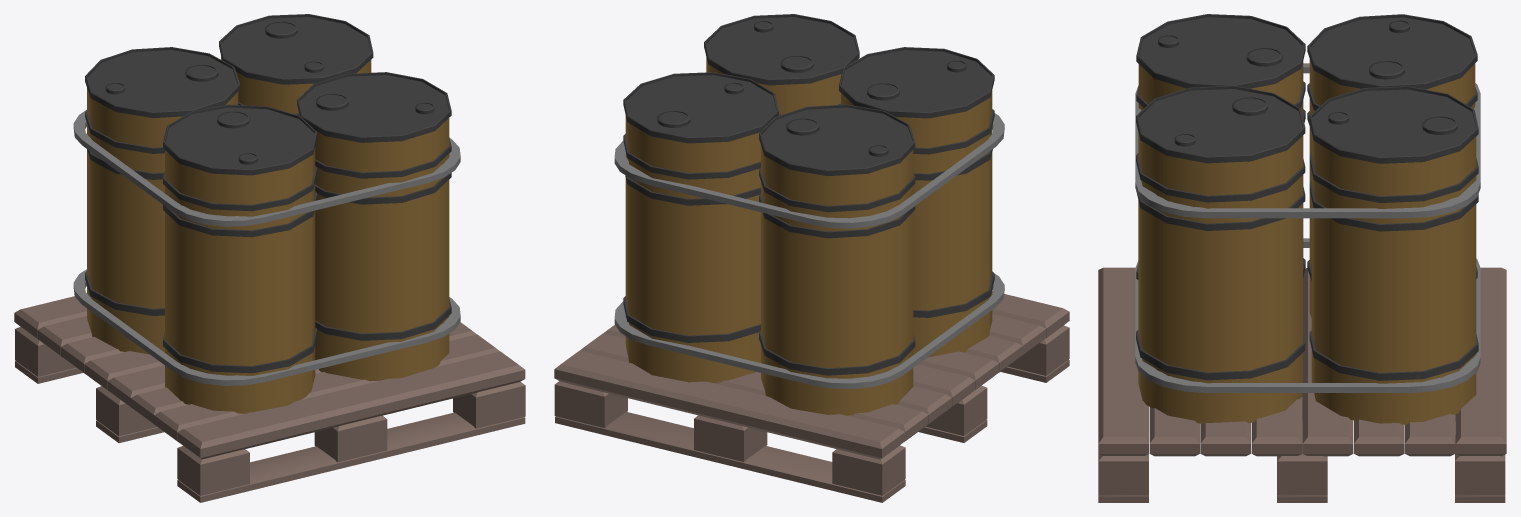
File: props_43.glb
The picture shows the model from 3 angles, left to right: view 1: azimuth 30°, elevation 25°; view 2: azimuth 150°, elevation 25°; view 3: azimuth 270°, elevation 25°; orthographic projection. The views are drawn at different scales.
Parts seen in each view (by area): view 1: props_43; view 2: props_43; view 3: props_43.
Boxes of the visible parts, left/top/right/bottom form: props_43: left=14, top=14, right=525, bottom=502; props_43: left=554, top=14, right=1069, bottom=502; props_43: left=1098, top=14, right=1506, bottom=502.
Bounding box in the file's own units: 2 × 1.79 × 1.99.
1 material, 1 textured.
